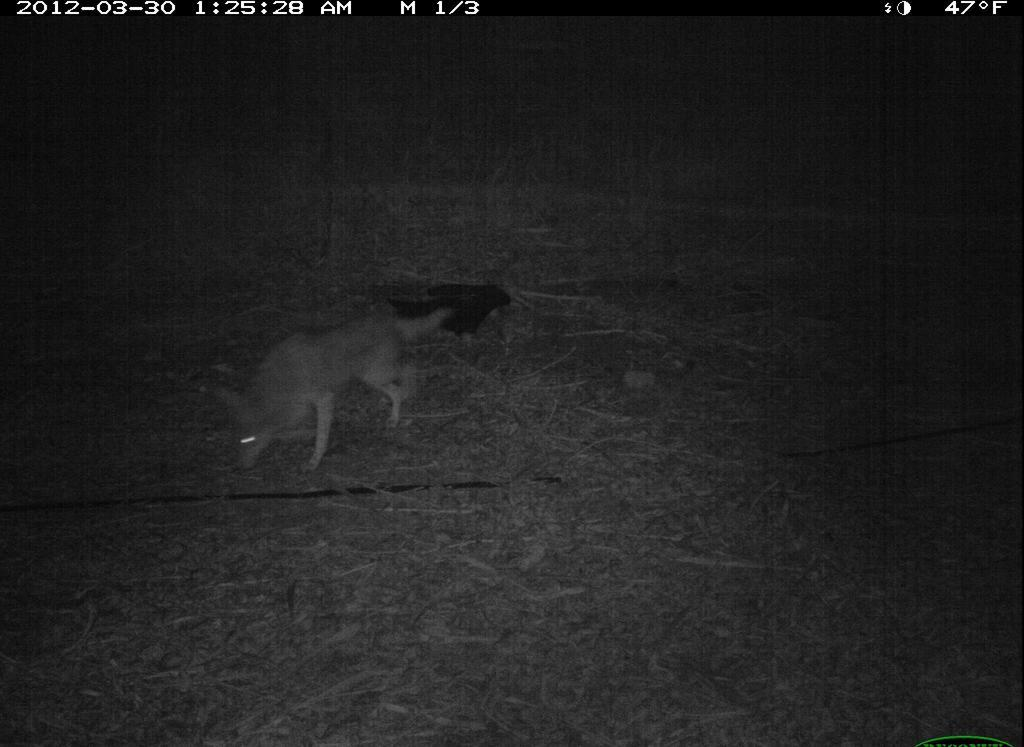coyote: (214, 303, 460, 481)
